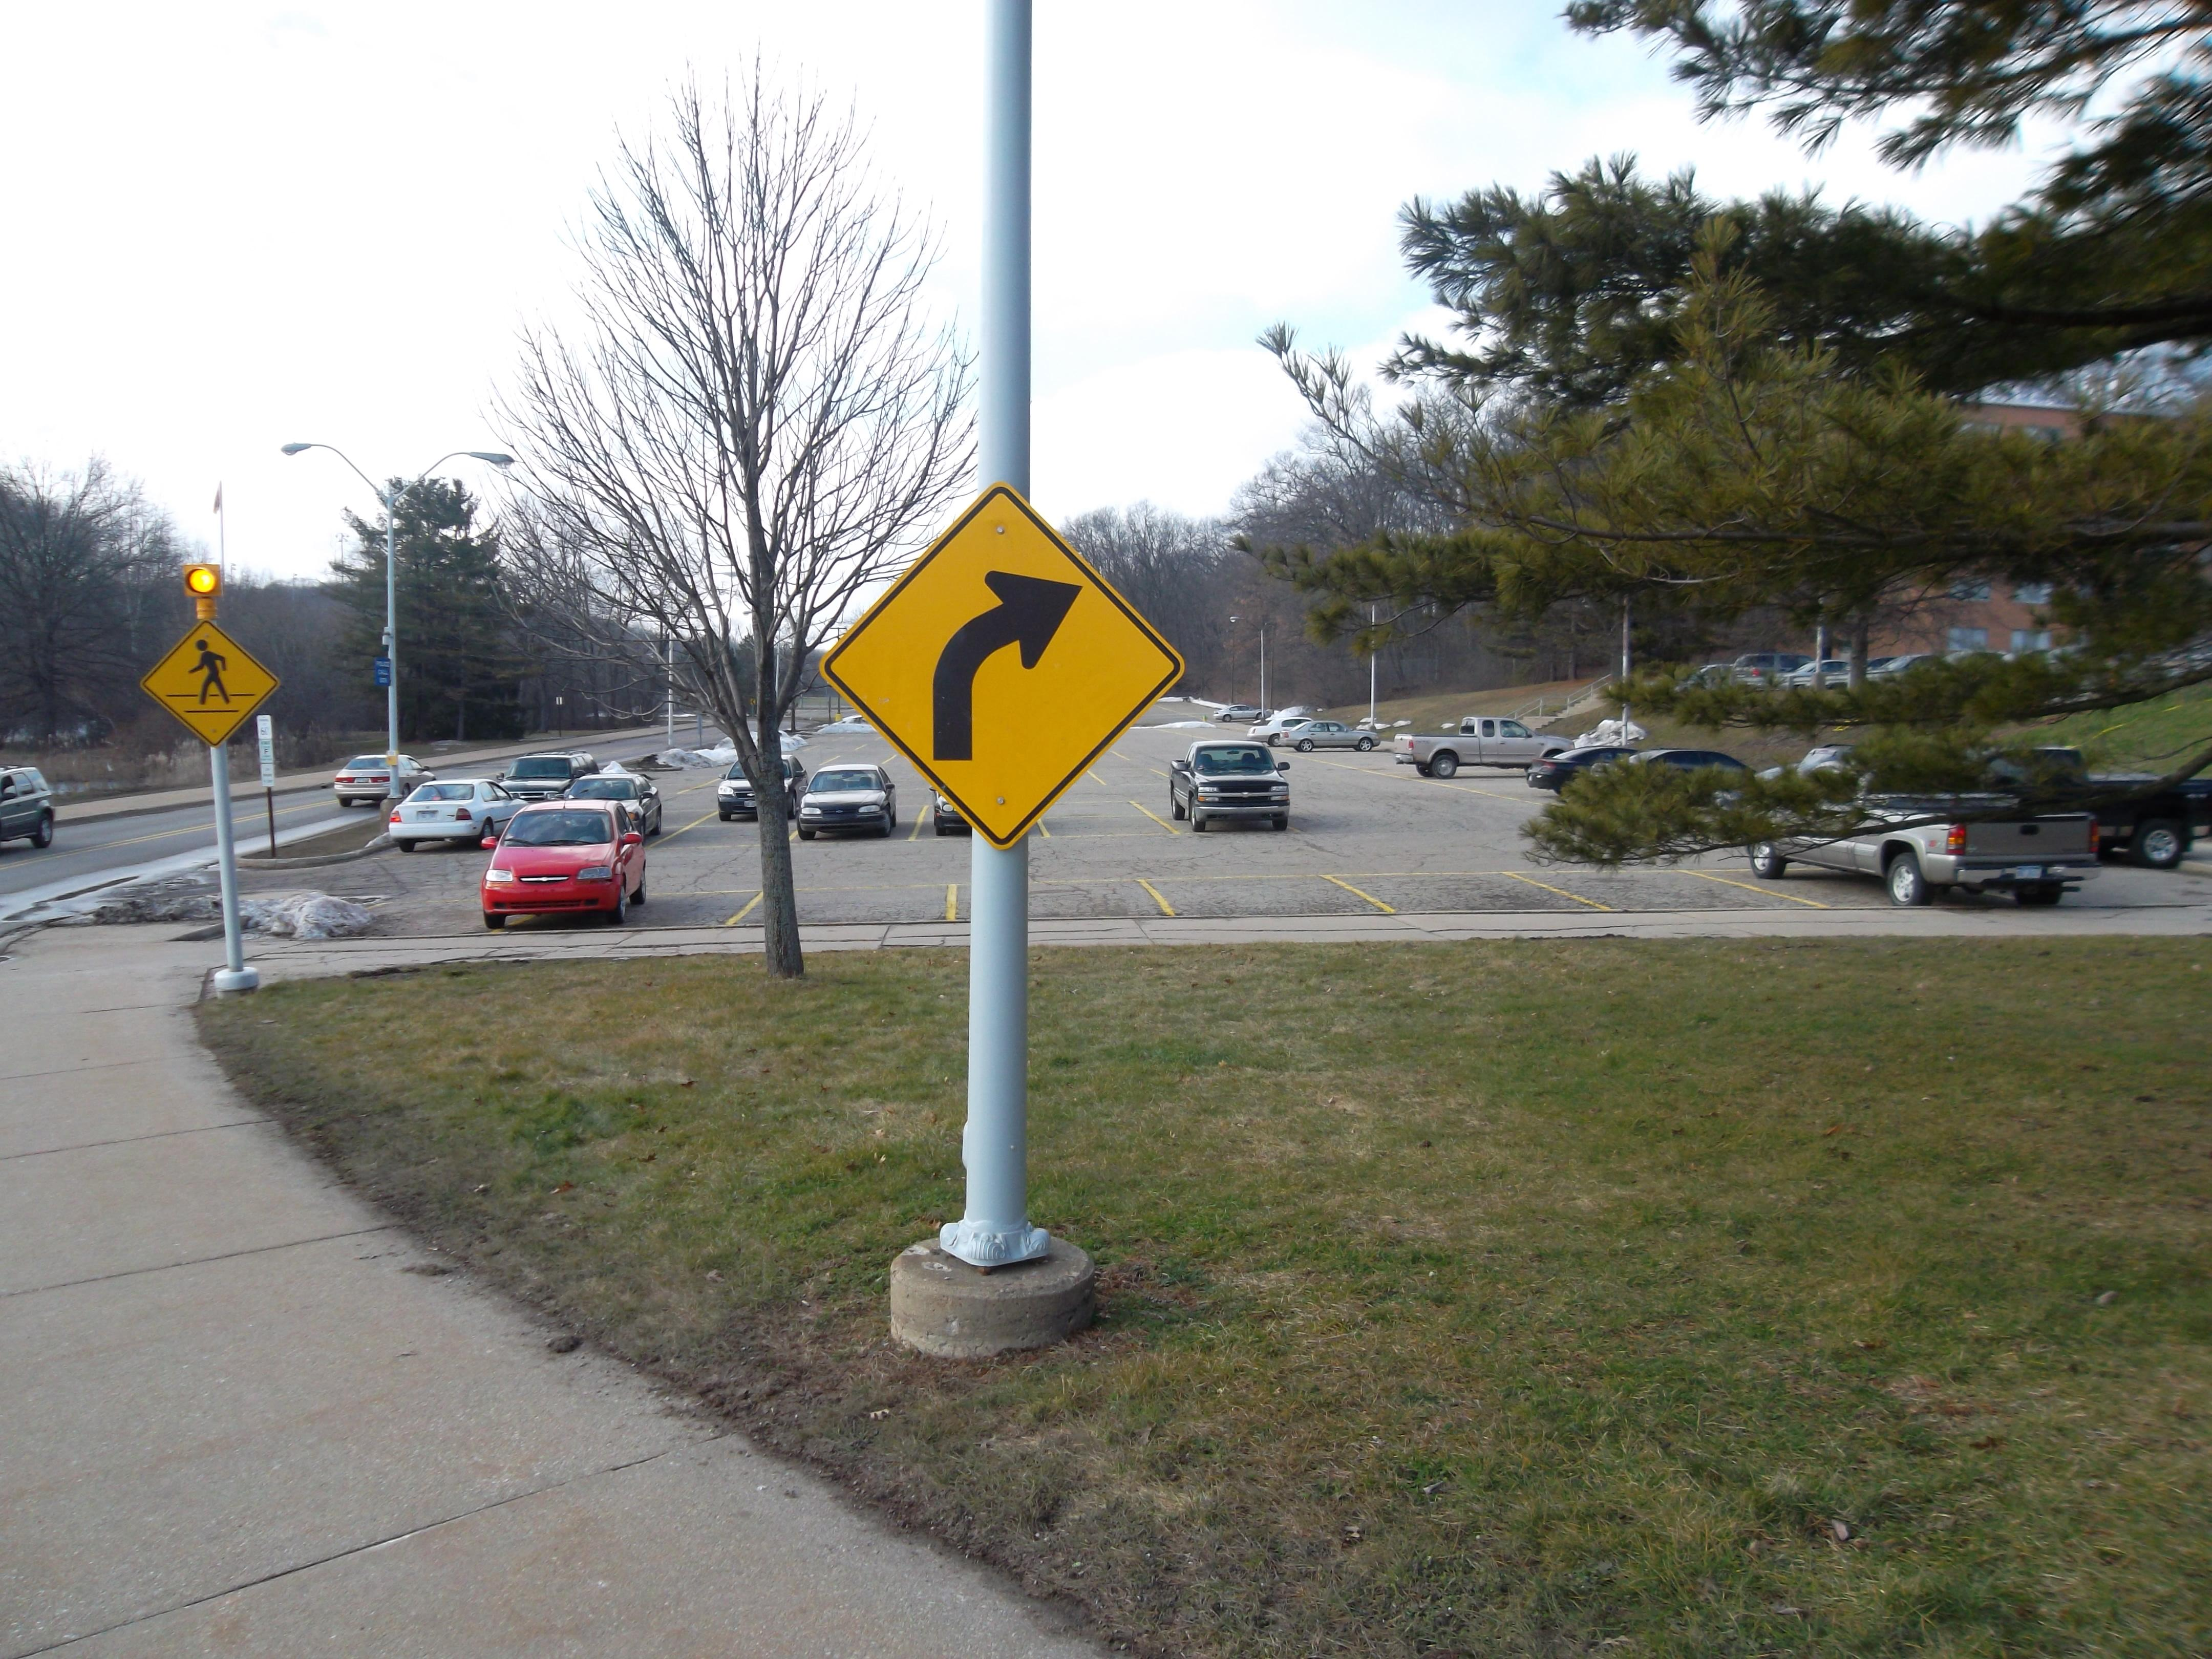warning: (824, 484, 1190, 854), (136, 617, 280, 753)
